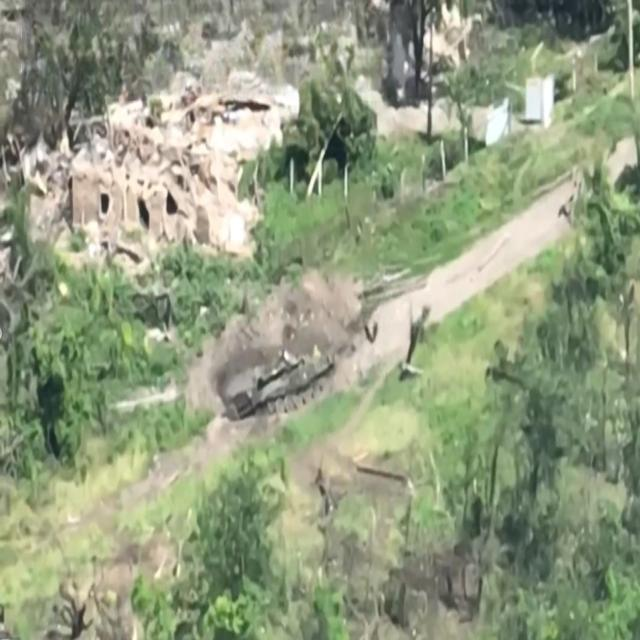MBT: (234, 335, 339, 419)
